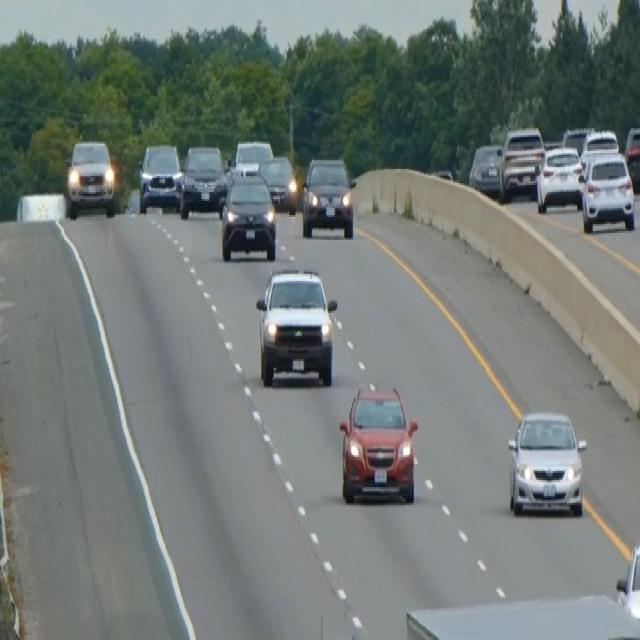car: (338, 382, 418, 503), (506, 407, 587, 517), (220, 171, 277, 261), (300, 155, 356, 238), (580, 149, 635, 233), (65, 137, 115, 217), (179, 142, 228, 219), (498, 125, 545, 199), (535, 144, 584, 213), (137, 140, 182, 212), (257, 153, 298, 213), (616, 539, 639, 629), (468, 142, 503, 196), (230, 137, 273, 176), (582, 128, 619, 156), (624, 124, 639, 192), (562, 125, 594, 156)
jeep: (254, 263, 338, 388)
lorry: (404, 542, 639, 638)
